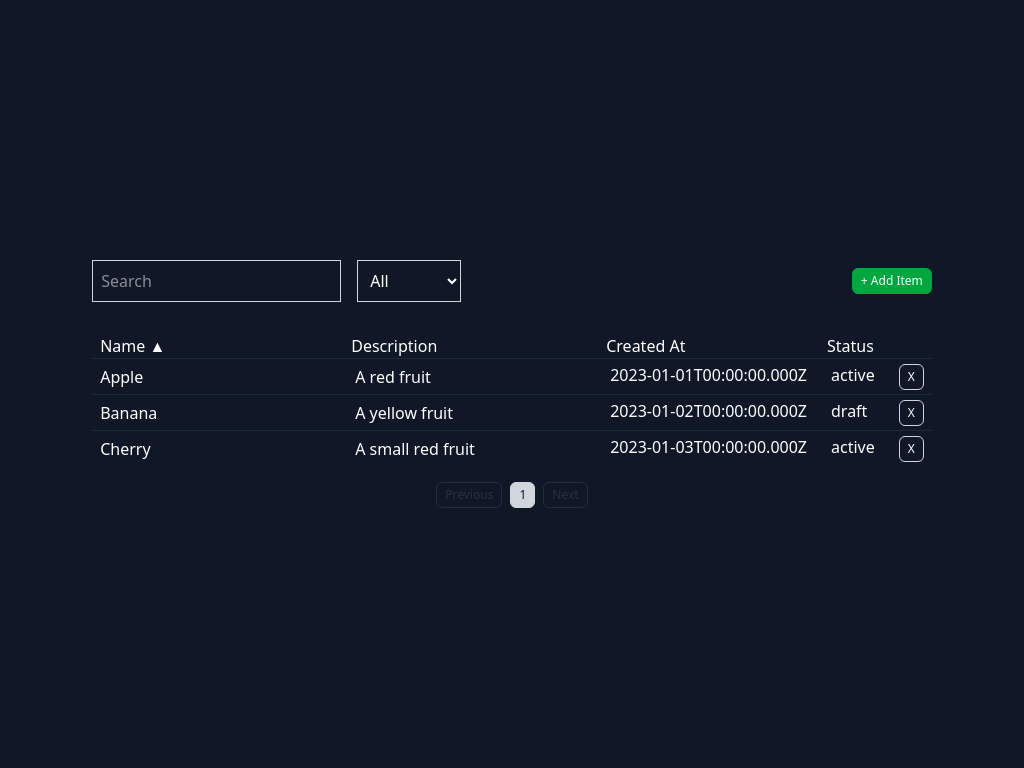
Test: Integration Tests - Full Flow with MSW › should handle delete API failures gracefully
The width and height of the screenshot is (1024, 768).
Expected: the 1st field showing "Apple" is shown, [92,363,339,390]
Try to delete item
Click the button "X" in the row of "2023-01-01T00:00:00.000Z".
click(911, 377)  # box [899,364,924,390]
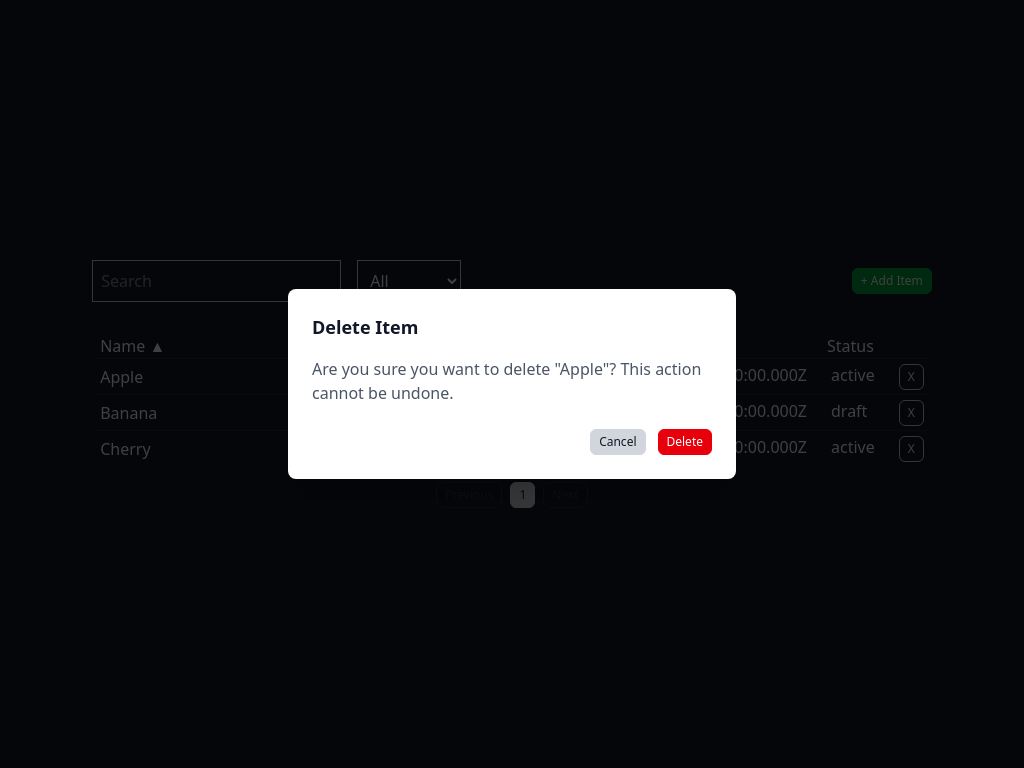
Click the button "Delete".
click(685, 442)  # box [658,429,712,455]
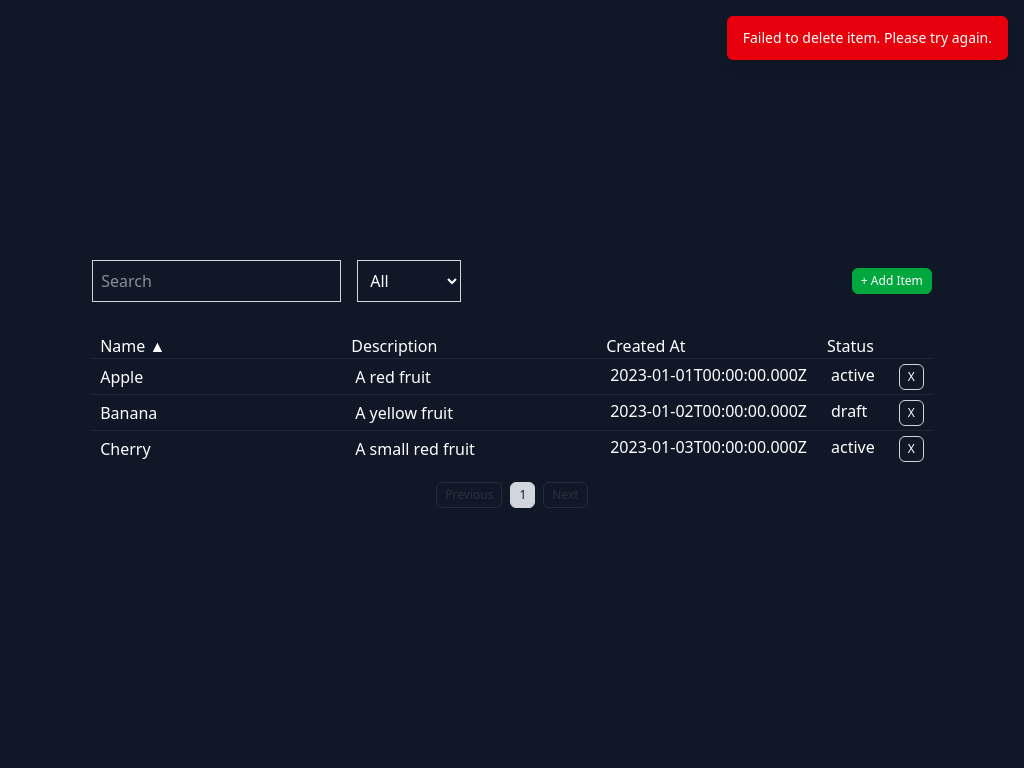
Expected: the 1st field showing "Apple" is shown, [92,363,339,390]
Now the text "Failed to delete item. Please try again." is shown, box [727,16,1008,60]
